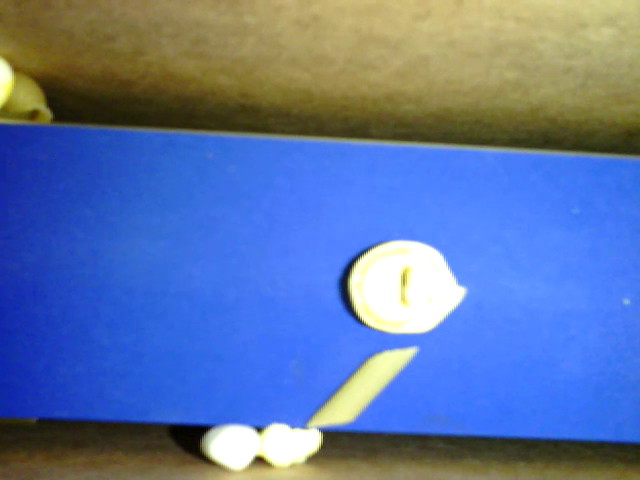penne: (306, 346, 423, 429)
shell: (5, 68, 59, 130)
tortellini: (341, 235, 468, 334)
